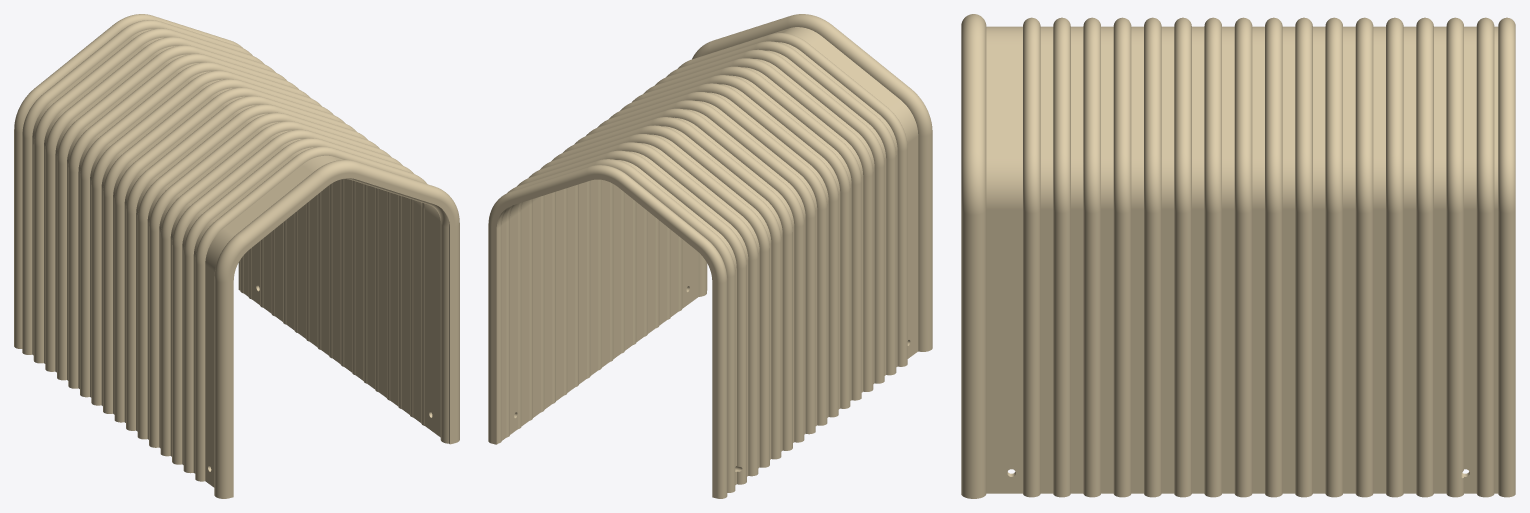
Rendered from hood.glb.
3 views of the same model, side by side, from view 1: azimuth 30°, elevation 25°; view 2: azimuth 150°, elevation 25°; view 3: azimuth 270°, elevation 25° (orthographic). The views are drawn at different scales.
Parts seen in each view (by area): view 1: hood; view 2: hood; view 3: hood.
Boxes of the visible parts, x1=… form: hood: x1=14, y1=14, x2=459, y2=498; hood: x1=488, y1=14, x2=932, y2=498; hood: x1=961, y1=14, x2=1515, y2=498.
Size of the model in its own units: 0.146 by 0.1756 by 0.22.
